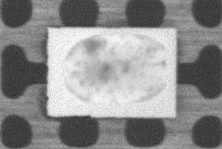DIE_INK: (89, 19, 222, 72)
